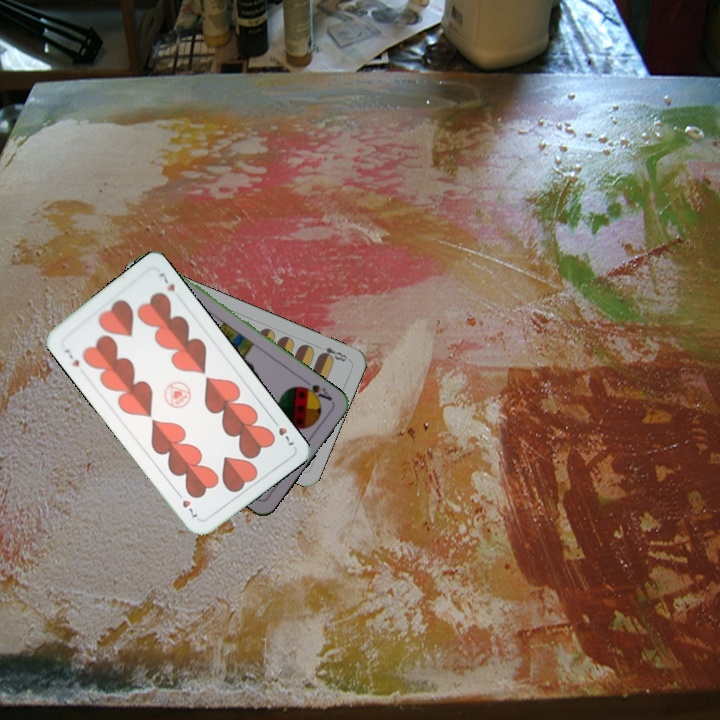E8: (315, 343, 352, 364)
H7: (268, 414, 297, 448), (60, 345, 82, 370)
SA: (296, 376, 335, 404)
